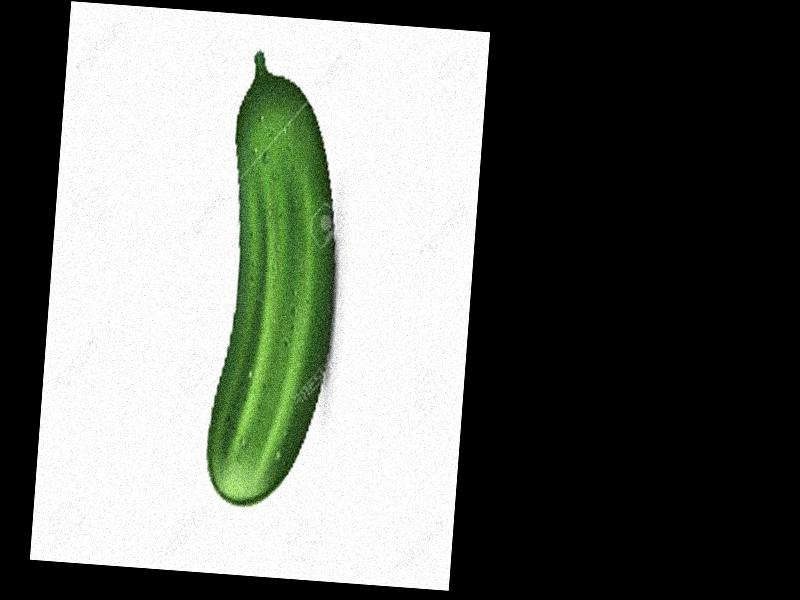Cucumber: (203, 50, 353, 512)
